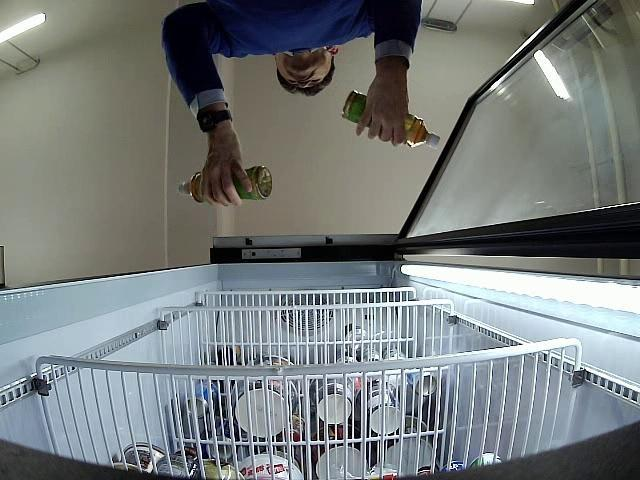19_17cha: (342, 86, 442, 148), (180, 166, 273, 200)
